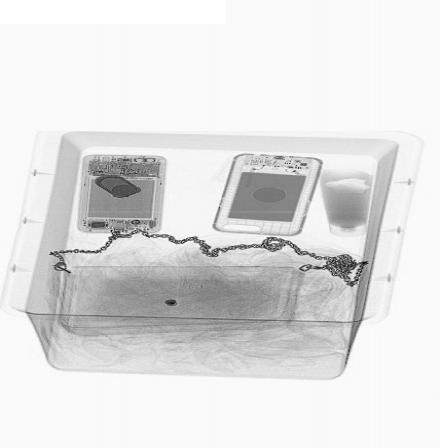Powerbank: (209, 150, 329, 237)
